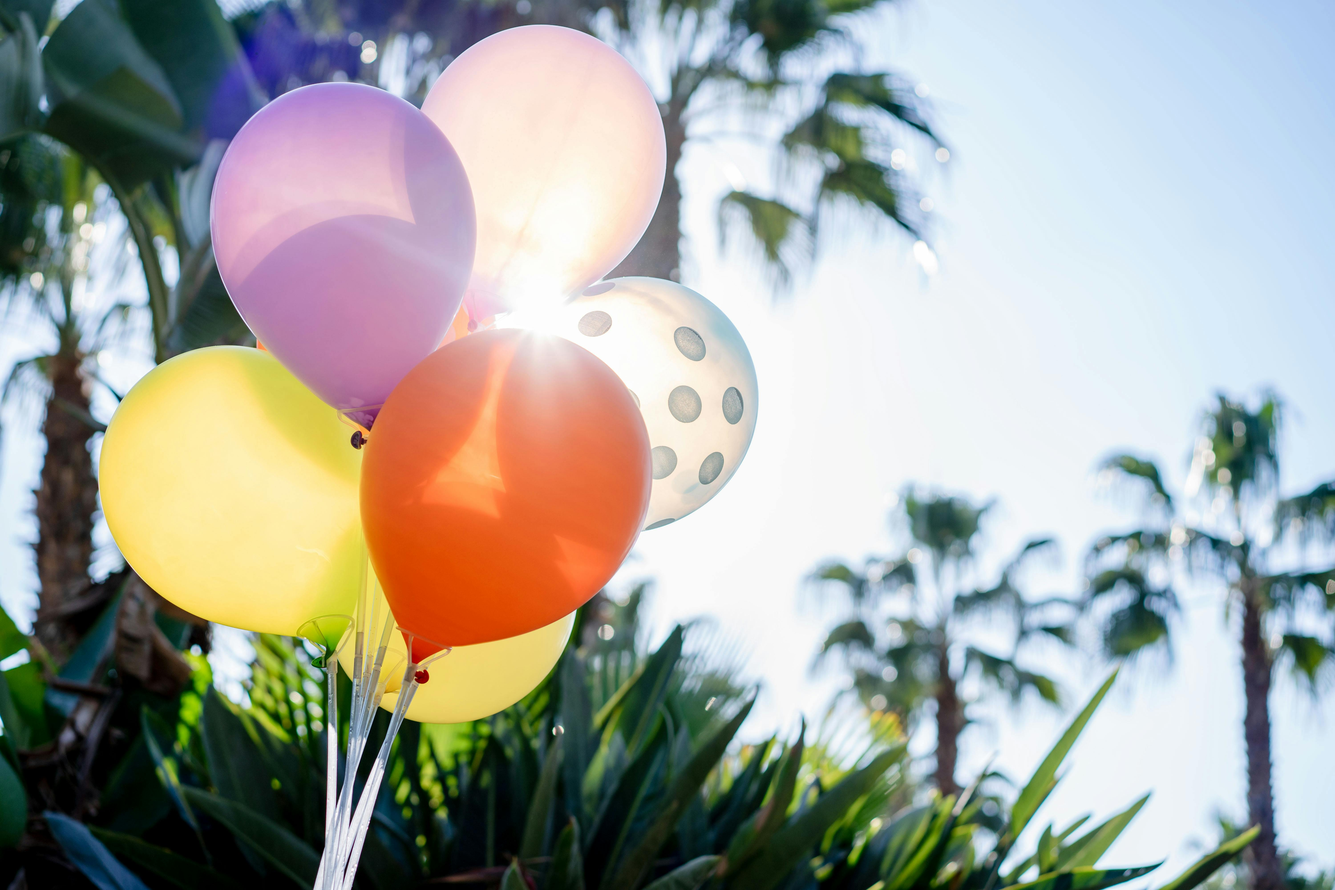balloon: (360, 330, 651, 647), (210, 83, 476, 411), (100, 347, 367, 635), (423, 25, 665, 320), (498, 277, 758, 529), (382, 613, 575, 723)
